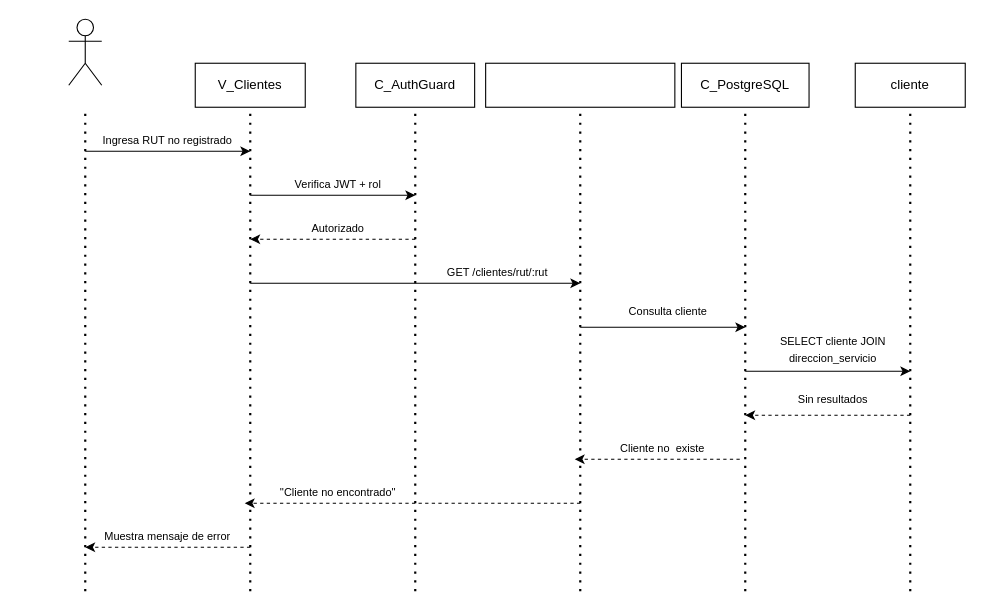
Image size: 985x613. Some labels were removed from this diagram. The box of each missing label's shape, as (x1, y1, x2, y2) in pixels:
C_ClienteController: (485, 62, 675, 107)
Jefe Técnico / Técnico: (68, 18, 102, 85)
